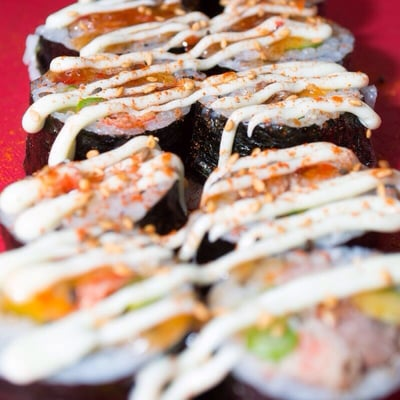sandwich: (1, 0, 397, 398)
